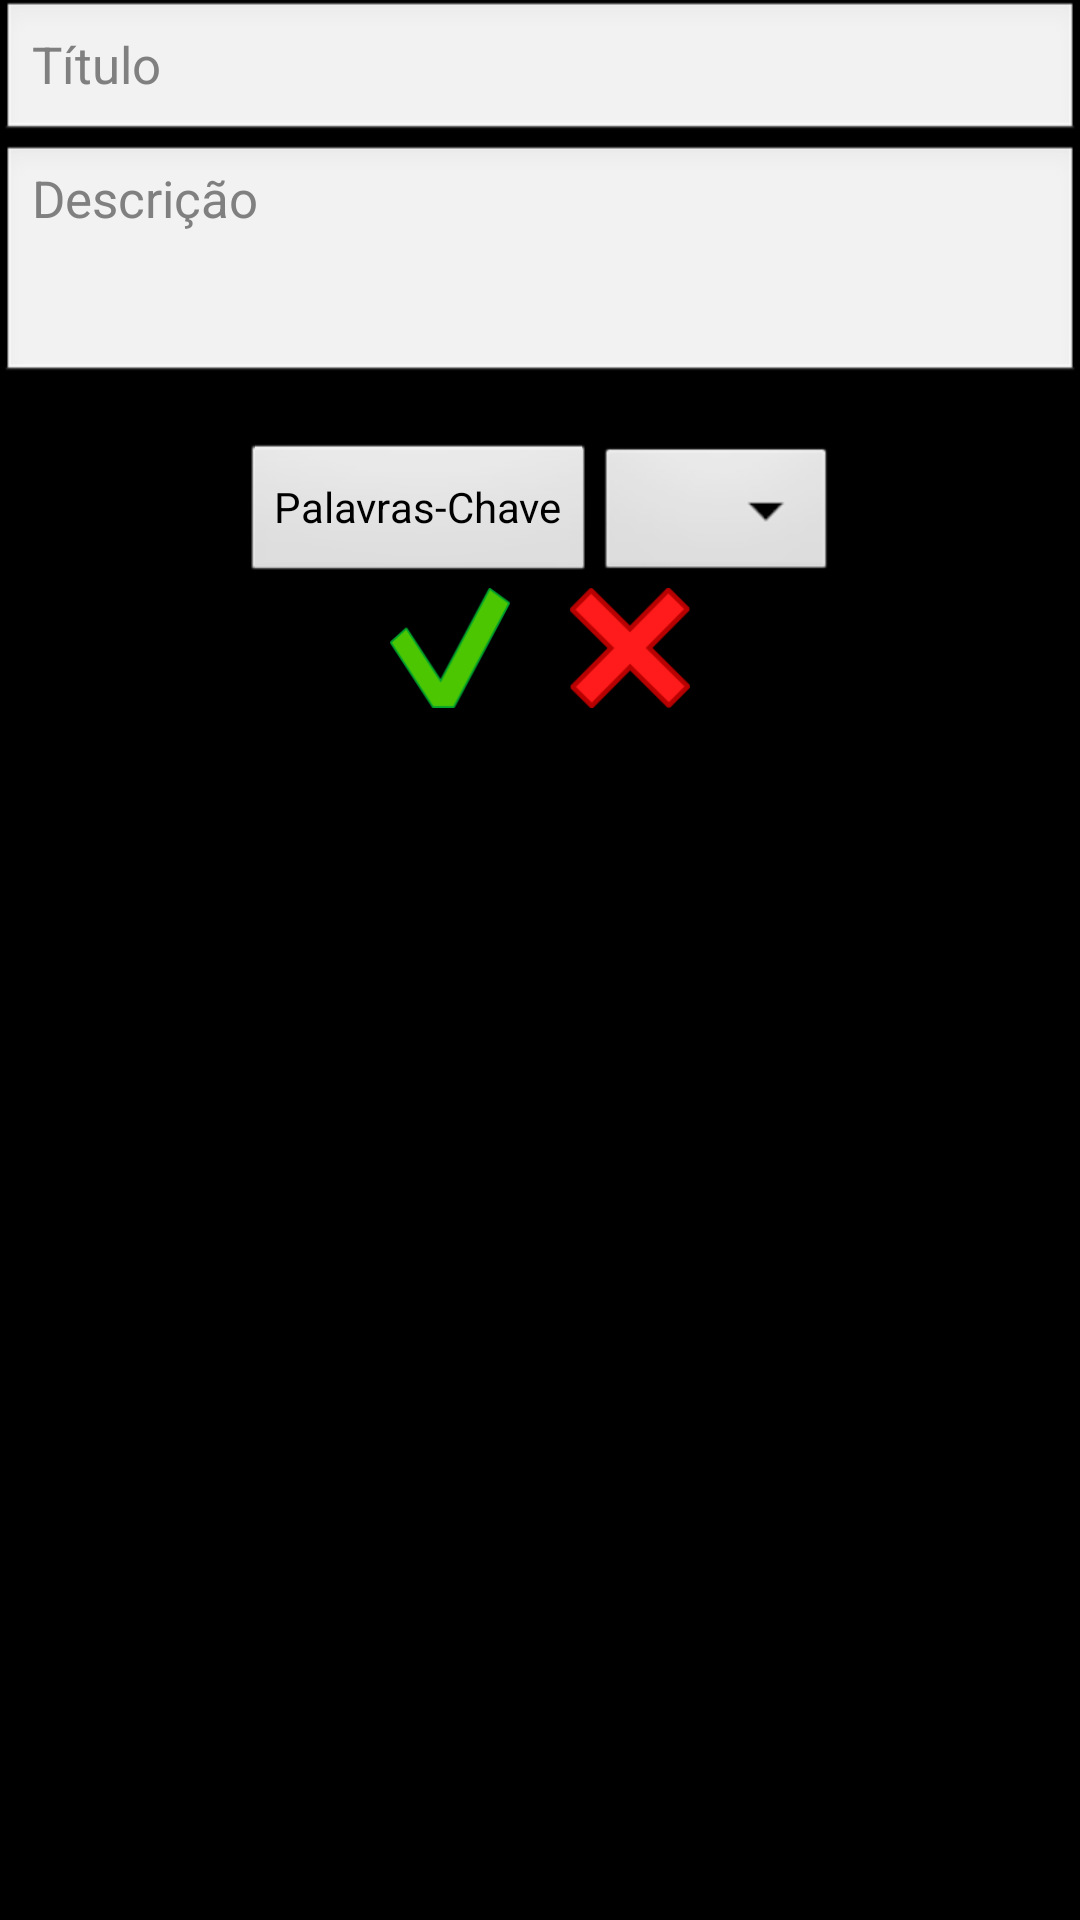

Locate icon controls on the screen. Image size 1080 × 1920, boxes as (x1, y1, x2, y2).
canceladdevent: (570, 588, 690, 708)
saveevent: (390, 588, 510, 708)
